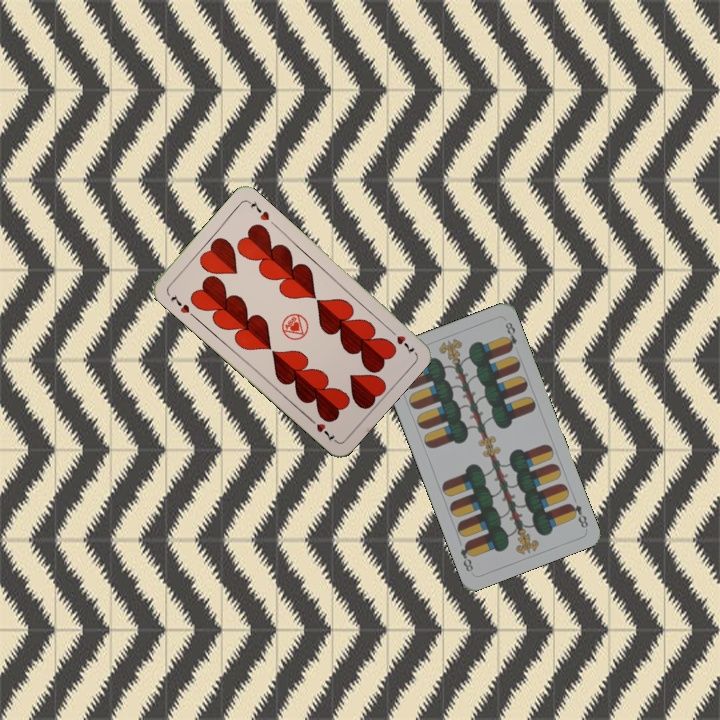E8: (564, 499, 591, 531)
H7: (385, 324, 417, 356), (167, 290, 192, 316)
